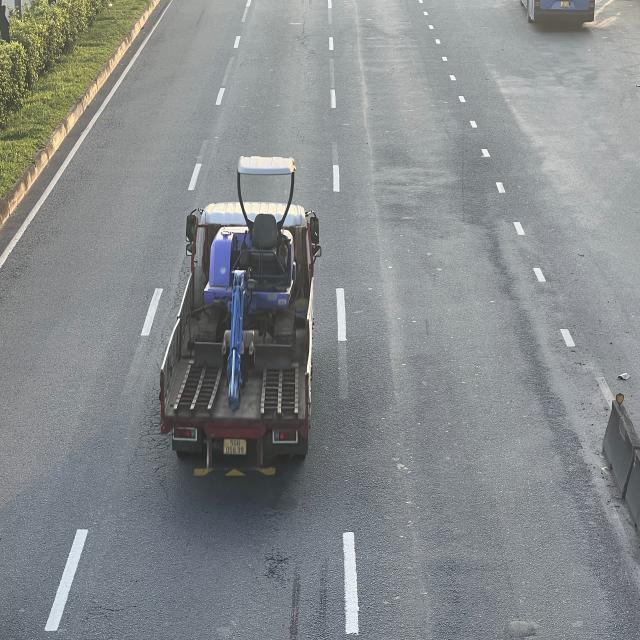truck: (158, 198, 328, 484)
